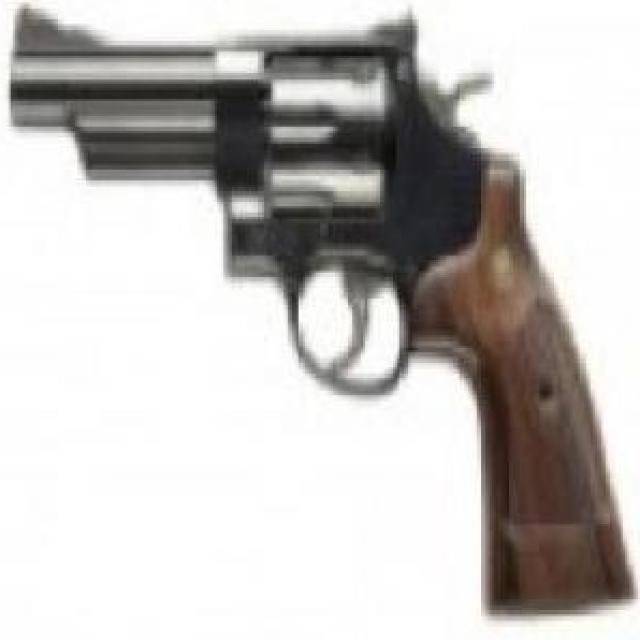pistol: (14, 4, 638, 611)
